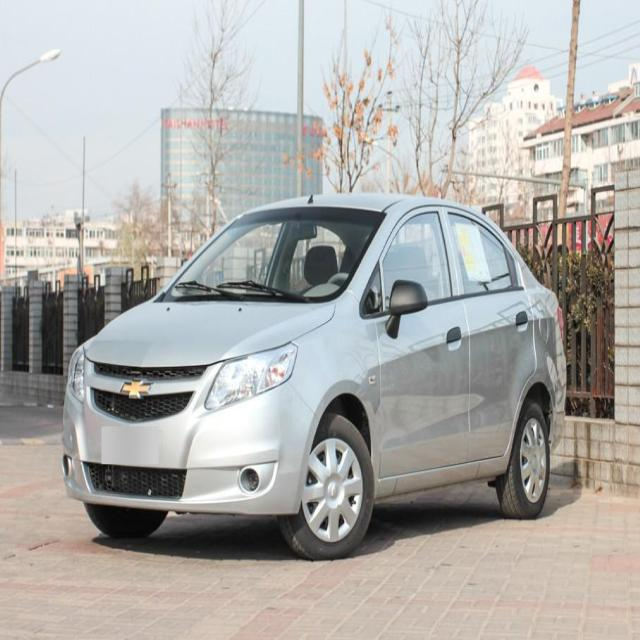back_left_side_light: (556, 306, 564, 344)
door: (440, 209, 536, 469)
front_bumper: (59, 381, 318, 518)
front_glass: (167, 206, 383, 308)
front_left_side_door: (371, 202, 473, 484)
front_left_side_light: (203, 340, 300, 415)
front_left_side_mirror: (388, 277, 428, 319)
front_right_side_light: (66, 341, 88, 400)
wheel: (282, 413, 374, 555), (499, 399, 550, 514)
